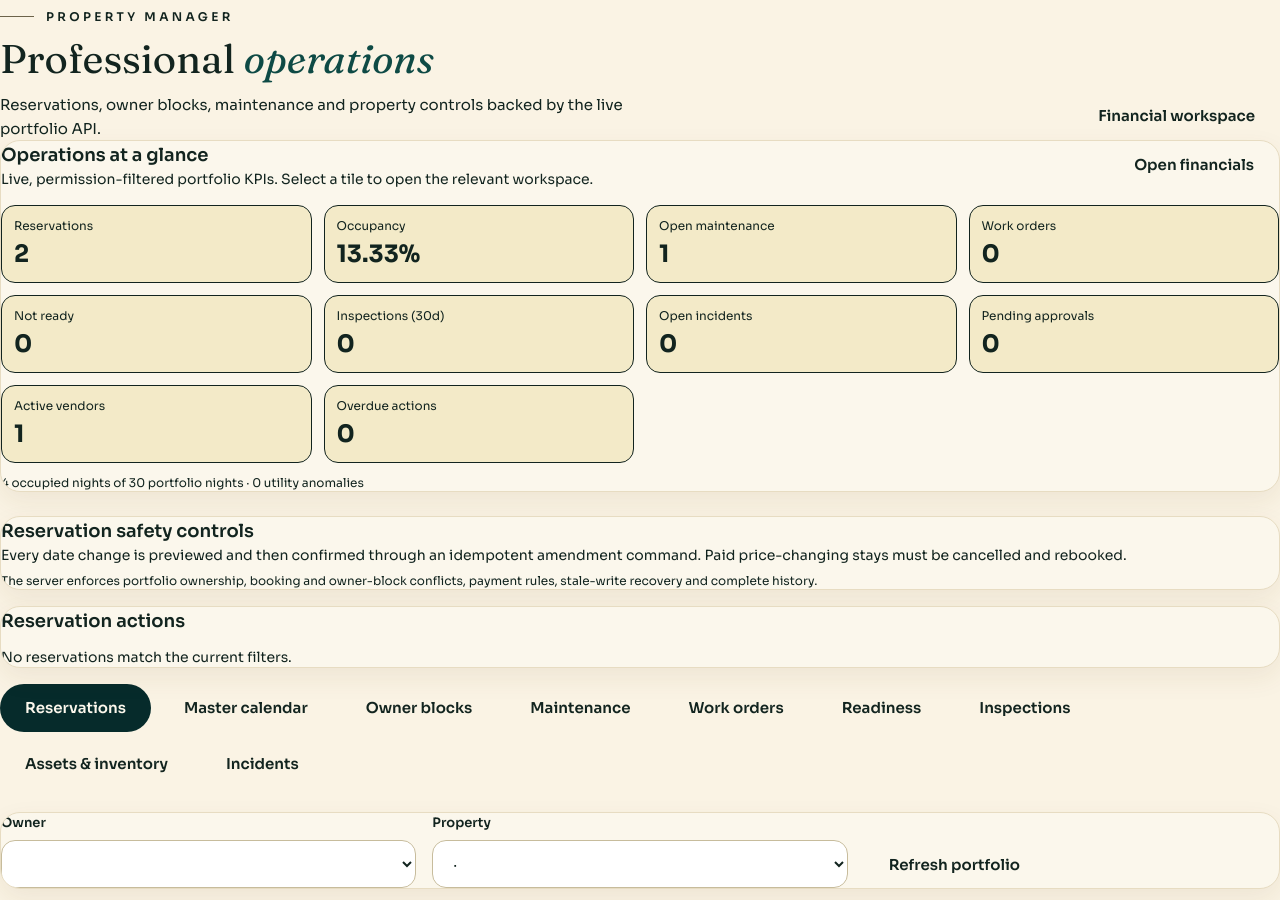
Test case: professional PM operations › loads the real operations collections and exposes owner-block workflow
Expected: the heading "Operations at a glance" is shown, [1,144,208,166]
Click the button "Owner blocks". click: (419, 708)
box: [341,684,497,732]
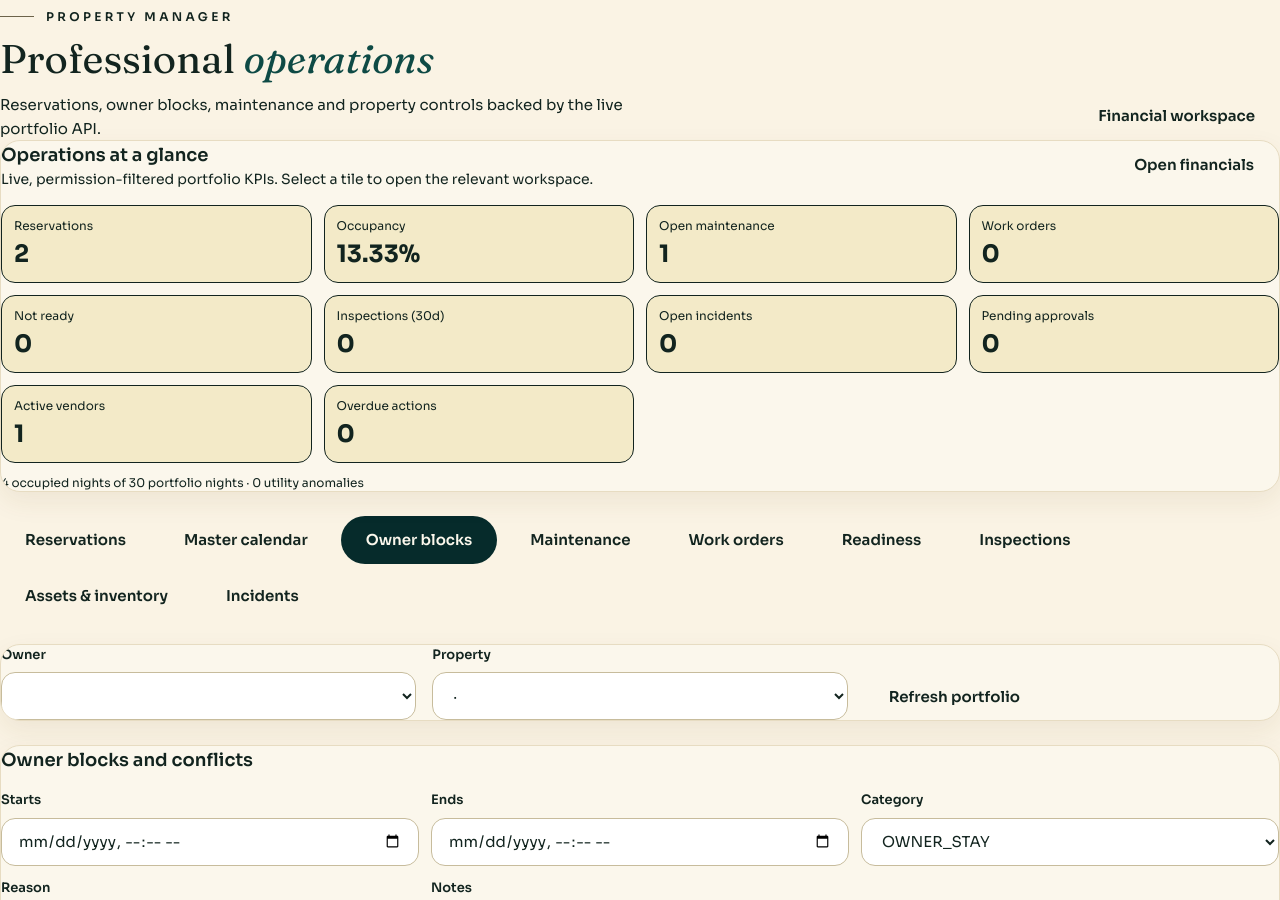
Expected: the heading "Owner blocks and conflicts" is shown, [1,749,253,771]
Click the button "Work orders". click: (736, 540)
box: [664,516,809,564]
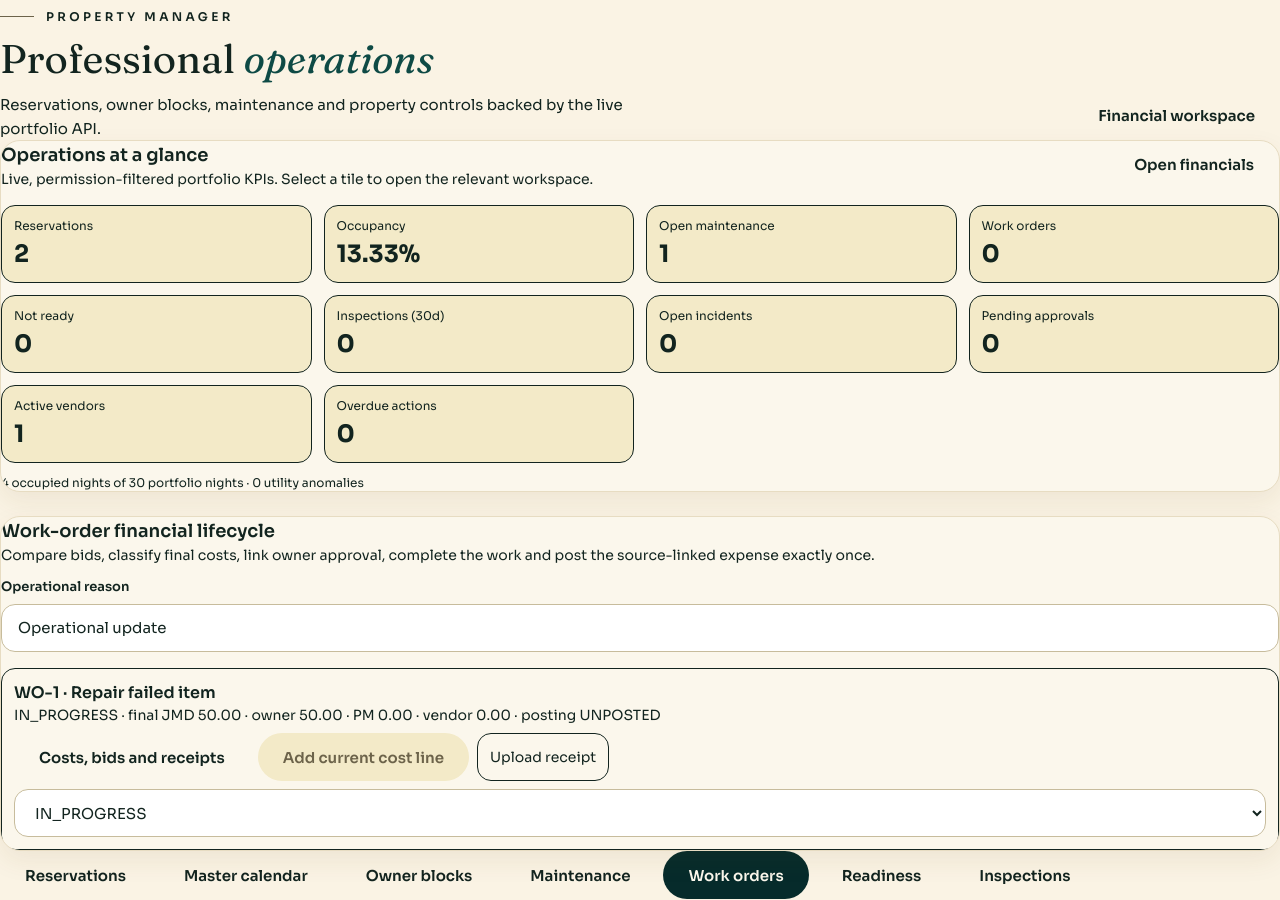
Expected: the heading "Work-order financial lifecycle" is shown, [1,520,275,542]
Expected: the text "WO-1 · Repair failed item" is shown, [14,682,216,703]
Click the button "Inspections". click: (1025, 875)
box: [954,851,1096,899]
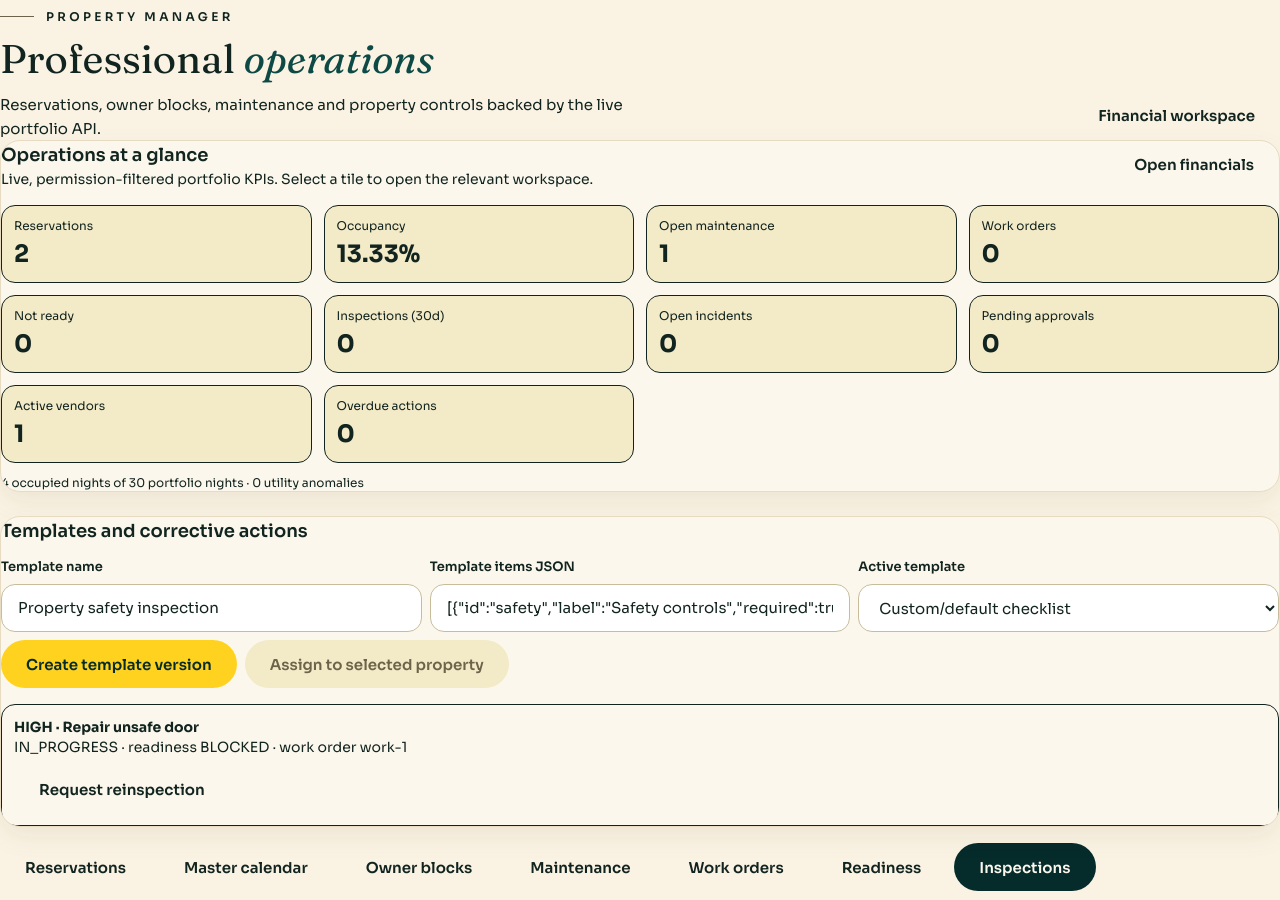
Expected: the heading "Templates and corrective actions" is shown, [1,520,308,542]
Expected: the text "HIGH · Repair unsafe door" is shown, [14,718,199,736]
